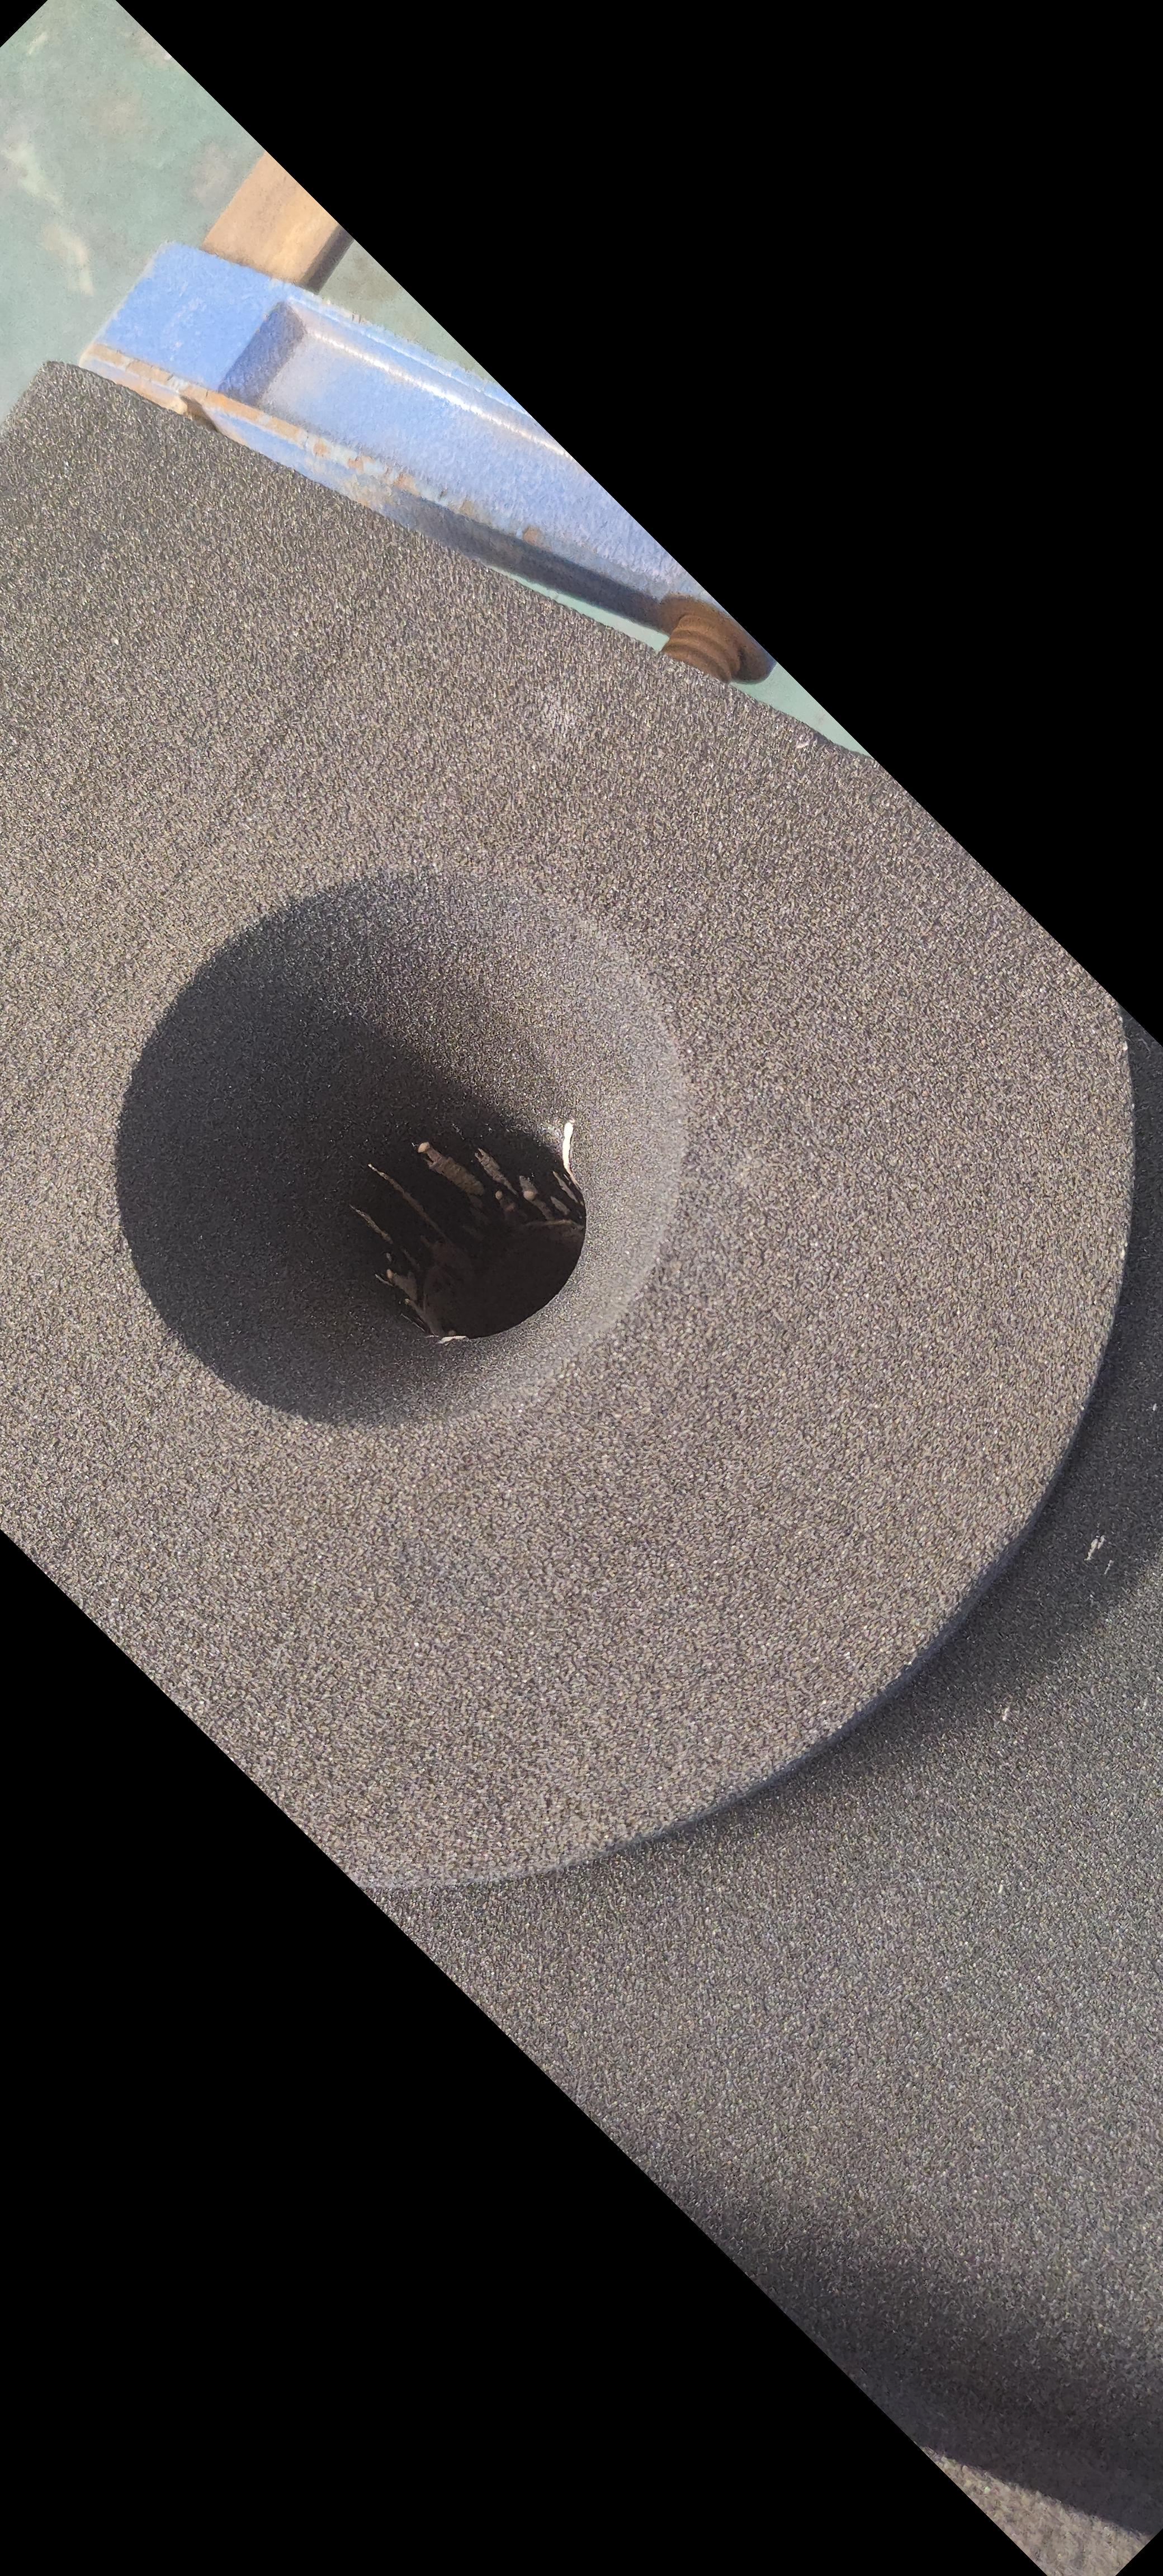pouring hole: (113, 874, 690, 1428)
